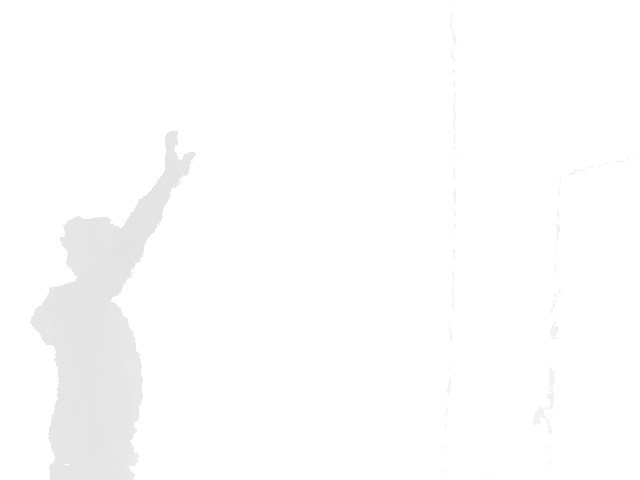hand: (157, 129, 198, 185)
head: (61, 215, 129, 281)
person: (29, 129, 197, 480)
